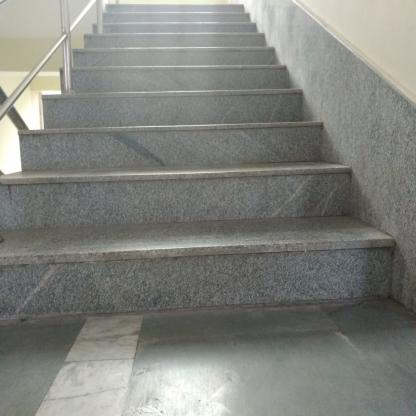stairs: (106, 10, 244, 330)
